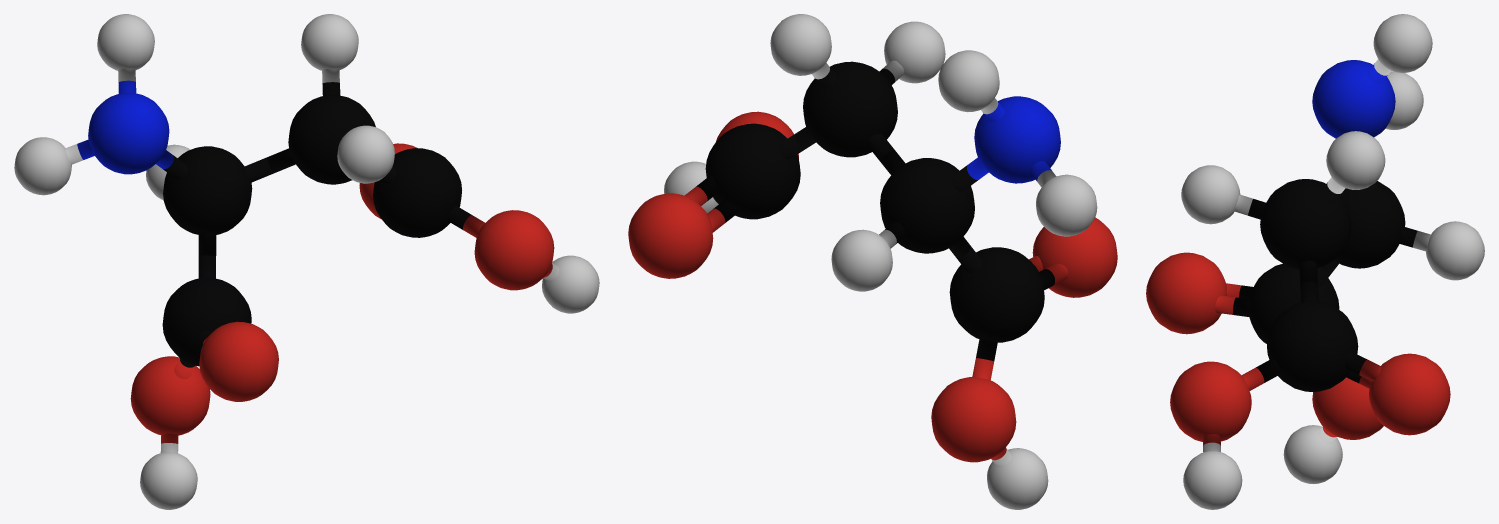
The model's file is asset.glb.
3 renders of one model, left to right at view 1: azimuth 30°, elevation 25°; view 2: azimuth 150°, elevation 25°; view 3: azimuth 270°, elevation 25°, orthographic. The views are drawn at different scales.
Parts seen in each view (by area): view 1: Shape_Sphere.005, Shape_Sphere.008, Shape_Sphere.004, Shape_Sphere.001, Shape_Sphere.002, Shape_Sphere.006, Shape_Sphere, Shape_Sphere.007, Shape_Sphere.010, Shape_Sphere.014, Shape_Sphere.012, Shape_Sphere.011 (+3 smaller); view 2: Shape_Sphere.007, Shape_Sphere.006, Shape_Sphere.005, Shape_Sphere.008, Shape_Sphere.003, Shape_Sphere, Shape_Sphere.004, Shape_Sphere.002, Shape_Sphere.013, Shape_Sphere.009, Shape_Sphere.012, Shape_Sphere.011 (+4 smaller); view 3: Shape_Sphere.008, Shape_Sphere.006, Shape_Sphere.003, Shape_Sphere.001, Shape_Sphere.002, Shape_Sphere.004, Shape_Sphere.005, Shape_Sphere, Shape_Sphere.007, Shape_Sphere.015, Shape_Sphere.011, Shape_Sphere.013 (+5 smaller).
Part boxes in pixels (left/top/right/bottom): Shape_Sphere.005: left=163, top=146, right=252, bottom=234; Shape_Sphere.008: left=373, top=148, right=461, bottom=237; Shape_Sphere.004: left=88, top=92, right=169, bottom=174; Shape_Sphere.001: left=474, top=210, right=554, bottom=290; Shape_Sphere.002: left=199, top=321, right=278, bottom=401; Shape_Sphere.006: left=288, top=95, right=375, bottom=184; Shape_Sphere: left=130, top=356, right=210, bottom=435; Shape_Sphere.007: left=162, top=277, right=251, bottom=366; Shape_Sphere.010: left=337, top=125, right=394, bottom=183; Shape_Sphere.014: left=140, top=452, right=197, bottom=509; Shape_Sphere.012: left=14, top=137, right=71, bottom=195; Shape_Sphere.011: left=301, top=14, right=358, bottom=70; Shape_Sphere.007: left=949, top=247, right=1044, bottom=342; Shape_Sphere.006: left=803, top=61, right=897, bottom=157; Shape_Sphere.005: left=880, top=158, right=974, bottom=253; Shape_Sphere.008: left=705, top=123, right=800, bottom=219; Shape_Sphere.003: left=628, top=193, right=713, bottom=278; Shape_Sphere: left=931, top=377, right=1016, bottom=462; Shape_Sphere.004: left=974, top=96, right=1060, bottom=183; Shape_Sphere.002: left=1032, top=217, right=1117, bottom=297; Shape_Sphere.013: left=938, top=50, right=999, bottom=112; Shape_Sphere.009: left=831, top=229, right=892, bottom=291; Shape_Sphere.012: left=1036, top=174, right=1097, bottom=236; Shape_Sphere.011: left=770, top=14, right=831, bottom=75; Shape_Sphere.008: left=1267, top=301, right=1358, bottom=391; Shape_Sphere.006: left=1260, top=179, right=1351, bottom=269; Shape_Sphere.003: left=1369, top=353, right=1450, bottom=435; Shape_Sphere.001: left=1170, top=361, right=1251, bottom=441; Shape_Sphere.002: left=1146, top=252, right=1226, bottom=334; Shape_Sphere.004: left=1312, top=60, right=1395, bottom=138; Shape_Sphere.005: left=1334, top=181, right=1405, bottom=268; Shape_Sphere: left=1312, top=377, right=1383, bottom=439; Shape_Sphere.007: left=1249, top=263, right=1339, bottom=343; Shape_Sphere.015: left=1183, top=451, right=1242, bottom=509; Shape_Sphere.011: left=1326, top=131, right=1385, bottom=189; Shape_Sphere.013: left=1373, top=14, right=1432, bottom=72.
Bounding box in the file's own units: 6.4 × 5.73 × 3.78.
